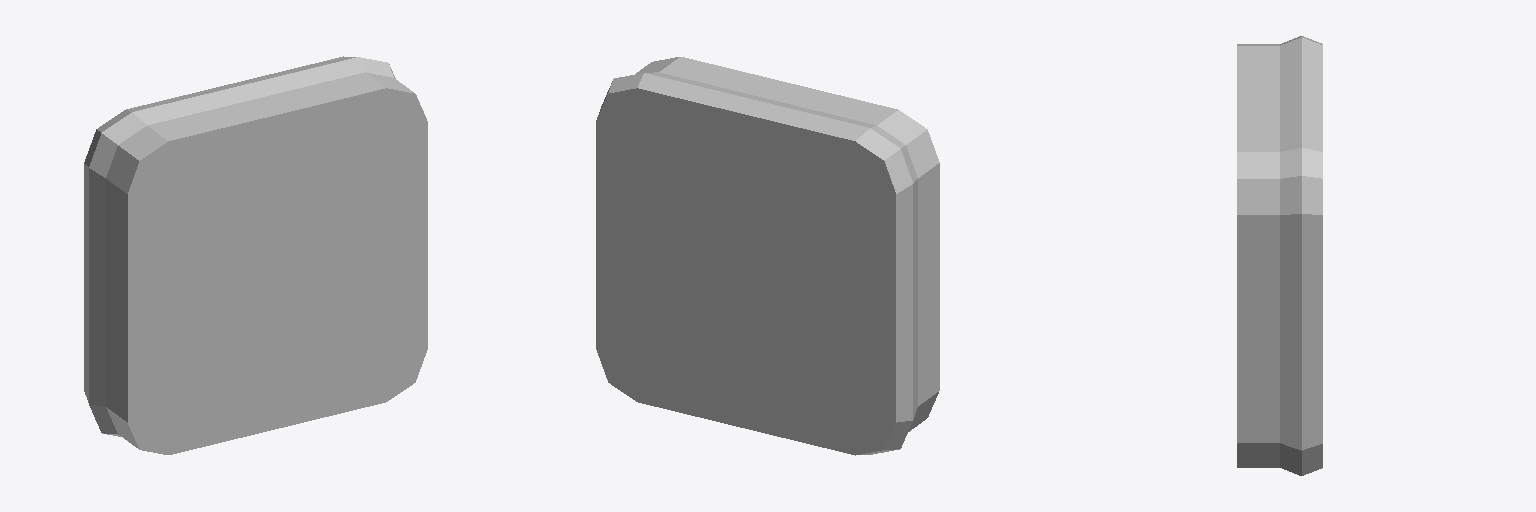
Rendered from block-snow-low-large.013.obj.
The picture shows the model from 3 angles: view 1: azimuth 30°, elevation 25°; view 2: azimuth 150°, elevation 25°; view 3: azimuth 270°, elevation 25°; orthographic projection.
Visible parts, largest first — view 1: block-snow-low-large.001; view 2: block-snow-low-large.001; view 3: block-snow-low-large.001.
Part boxes in pixels (x1,y1,x2,y2): block-snow-low-large.001: (84,56,427,454); block-snow-low-large.001: (596,57,939,455); block-snow-low-large.001: (1237,36,1322,475).
Size of the model in its own units: 2.08 by 2.08 by 0.5.